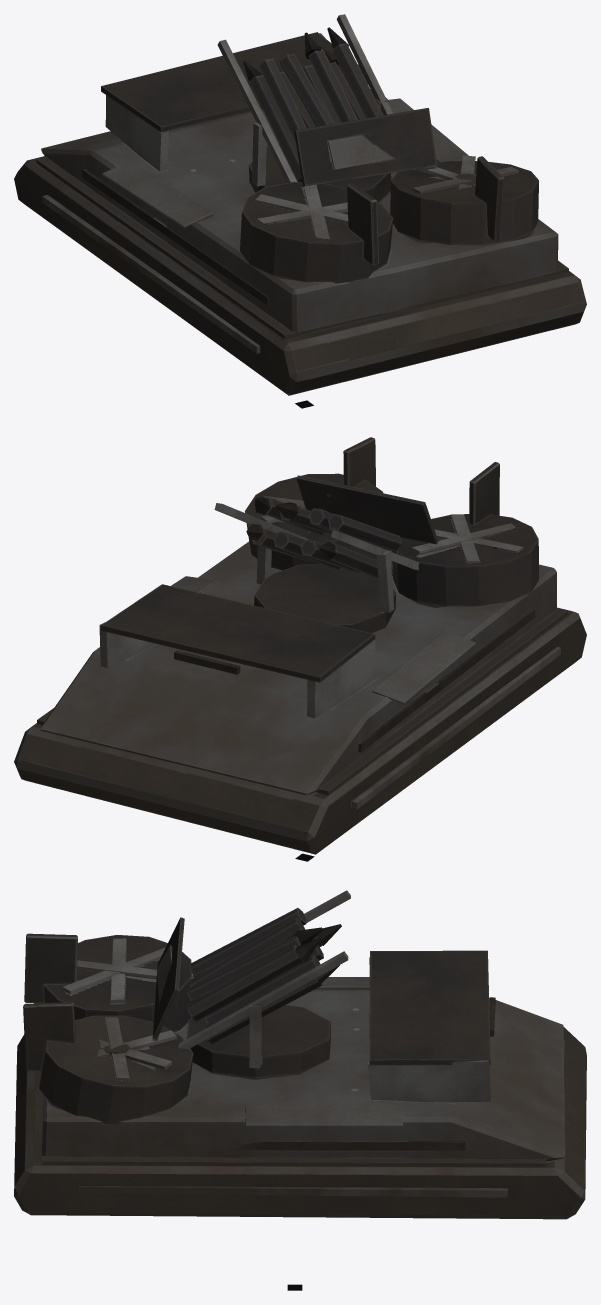
Rendered from chs_sling_wreck.fbx.
The picture shows the model from 3 angles, top to bottom: view 1: azimuth 30°, elevation 25°; view 2: azimuth 150°, elevation 25°; view 3: azimuth 270°, elevation 25°; orthographic projection. The views are drawn at different scales.
Parts seen in each view (by area): view 1: base_bar, turret_bar, fan1_bar, fan2_bar; view 2: base_bar, turret_bar, fan1_bar; view 3: base_bar, turret_bar, fan1_bar, fan2_bar.
Part boxes in pixels (x1=…): base_bar: x1=14, y1=32, x2=586, y2=395; turret_bar: x1=217, y1=14, x2=437, y2=202; fan1_bar: x1=255, y1=183, x2=348, y2=238; fan2_bar: x1=412, y1=155, x2=518, y2=193; base_bar: x1=14, y1=437, x2=586, y2=854; turret_bar: x1=214, y1=475, x2=438, y2=632; fan1_bar: x1=412, y1=514, x2=523, y2=563; base_bar: x1=14, y1=933, x2=586, y2=1219; turret_bar: x1=152, y1=890, x2=350, y2=1078; fan1_bar: x1=62, y1=938, x2=165, y2=1003; fan2_bar: x1=93, y1=1017, x2=176, y2=1080.
Size of the model in its own units: 500 by 548 by 774.
2 materials, 2 textured.
